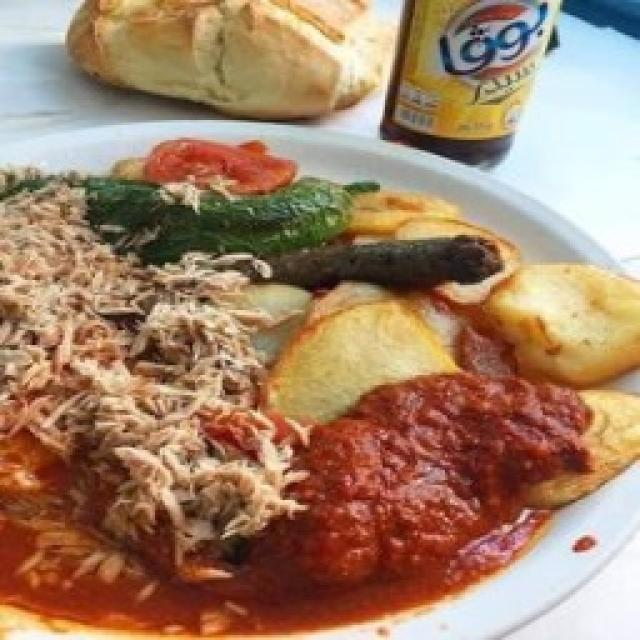Kafteji: (0, 121, 640, 639)
